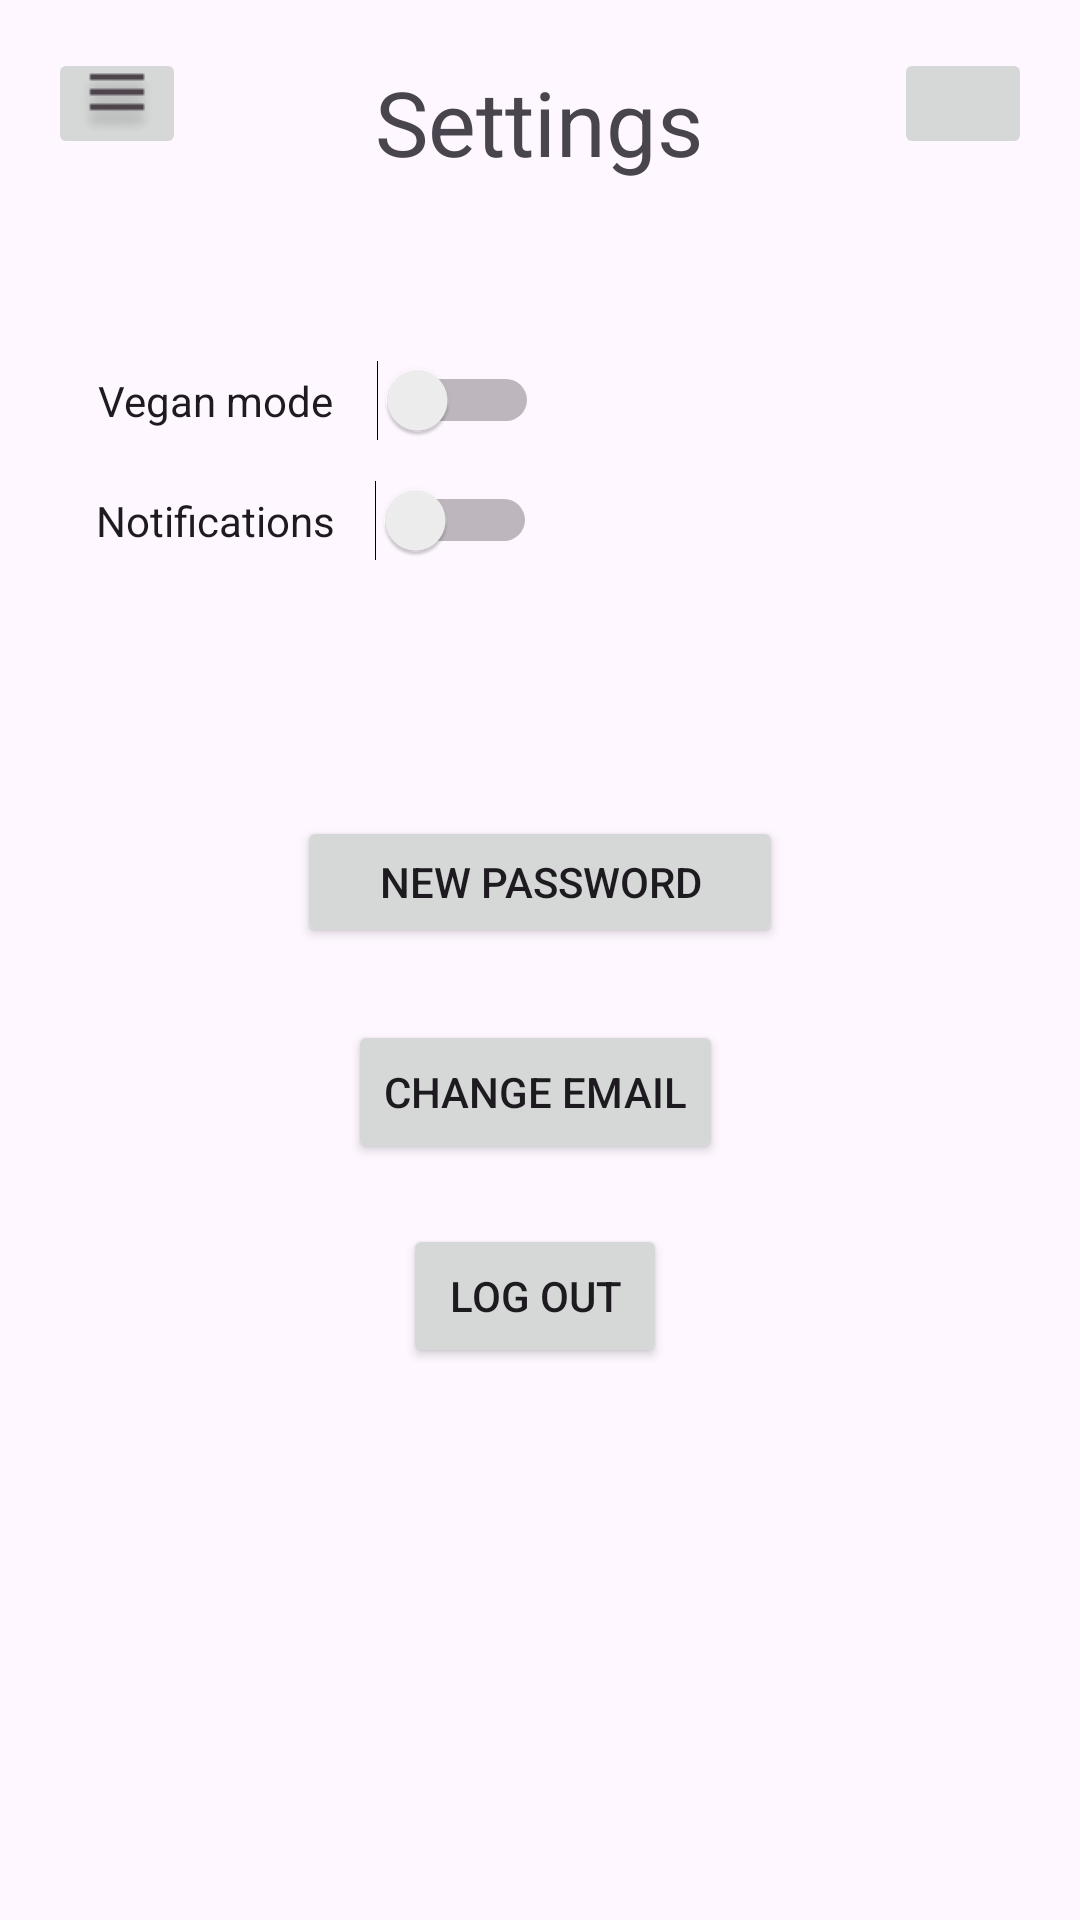

Where to tap for icons on this 1080 x 1920 app screen, as point (x, y):
Hamburger menu button icon nav bar: point (117, 103)
